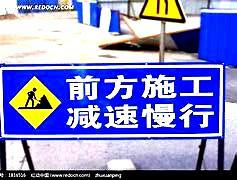sign: (1, 65, 223, 138)
